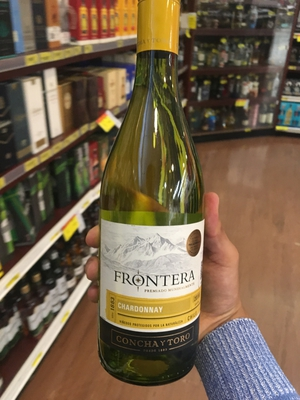frontera chardonnay: (92, 12, 218, 384)
